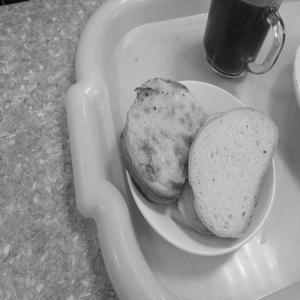bread: (178, 102, 282, 251)
cheese_sandwich: (111, 72, 201, 222)
coffee: (192, 2, 283, 77)
